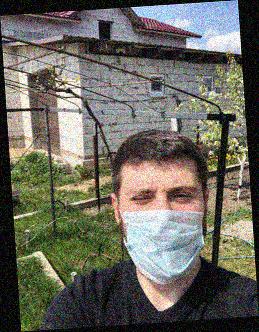with_mask: (120, 172, 208, 285)
